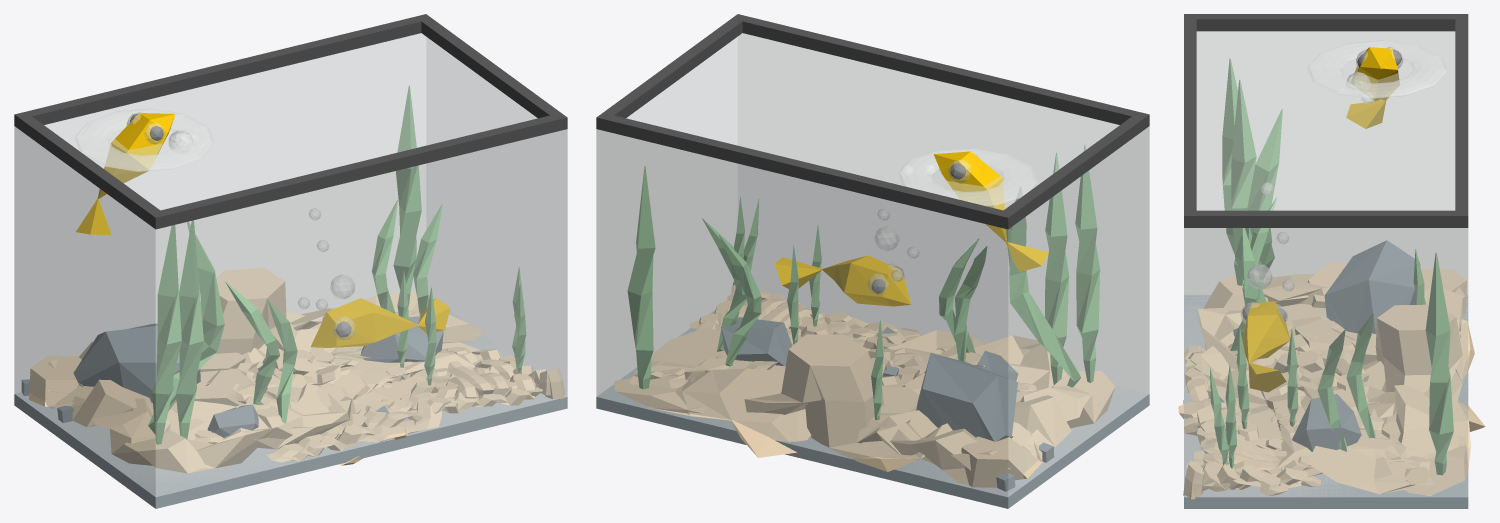
Rendered from fish.fbx.
The picture shows the model from 3 angles, left to right: view 1: azimuth 30°, elevation 25°; view 2: azimuth 150°, elevation 25°; view 3: azimuth 270°, elevation 25°; orthographic projection.
Parts seen in each view (by area): view 1: model.001; view 2: model.001; view 3: model.001.
Part boxes in pixels (bbox=[...]): model.001: bbox=[14, 14, 567, 508]; model.001: bbox=[596, 14, 1149, 508]; model.001: bbox=[1178, 14, 1485, 508].
Bounding box in the file's own units: 74.66 × 53.11 × 47.56.
